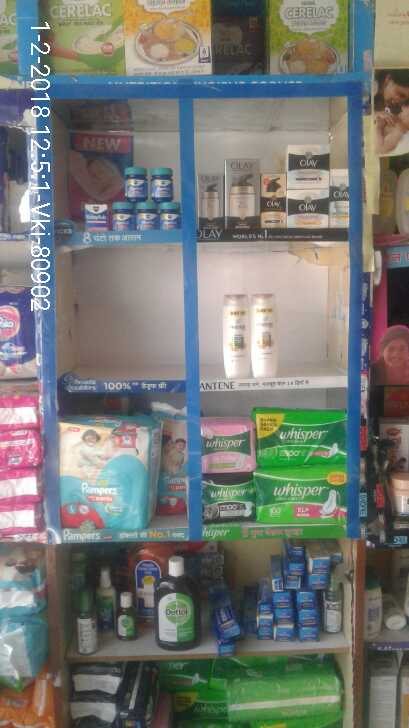vicks: (68, 163, 186, 235)
